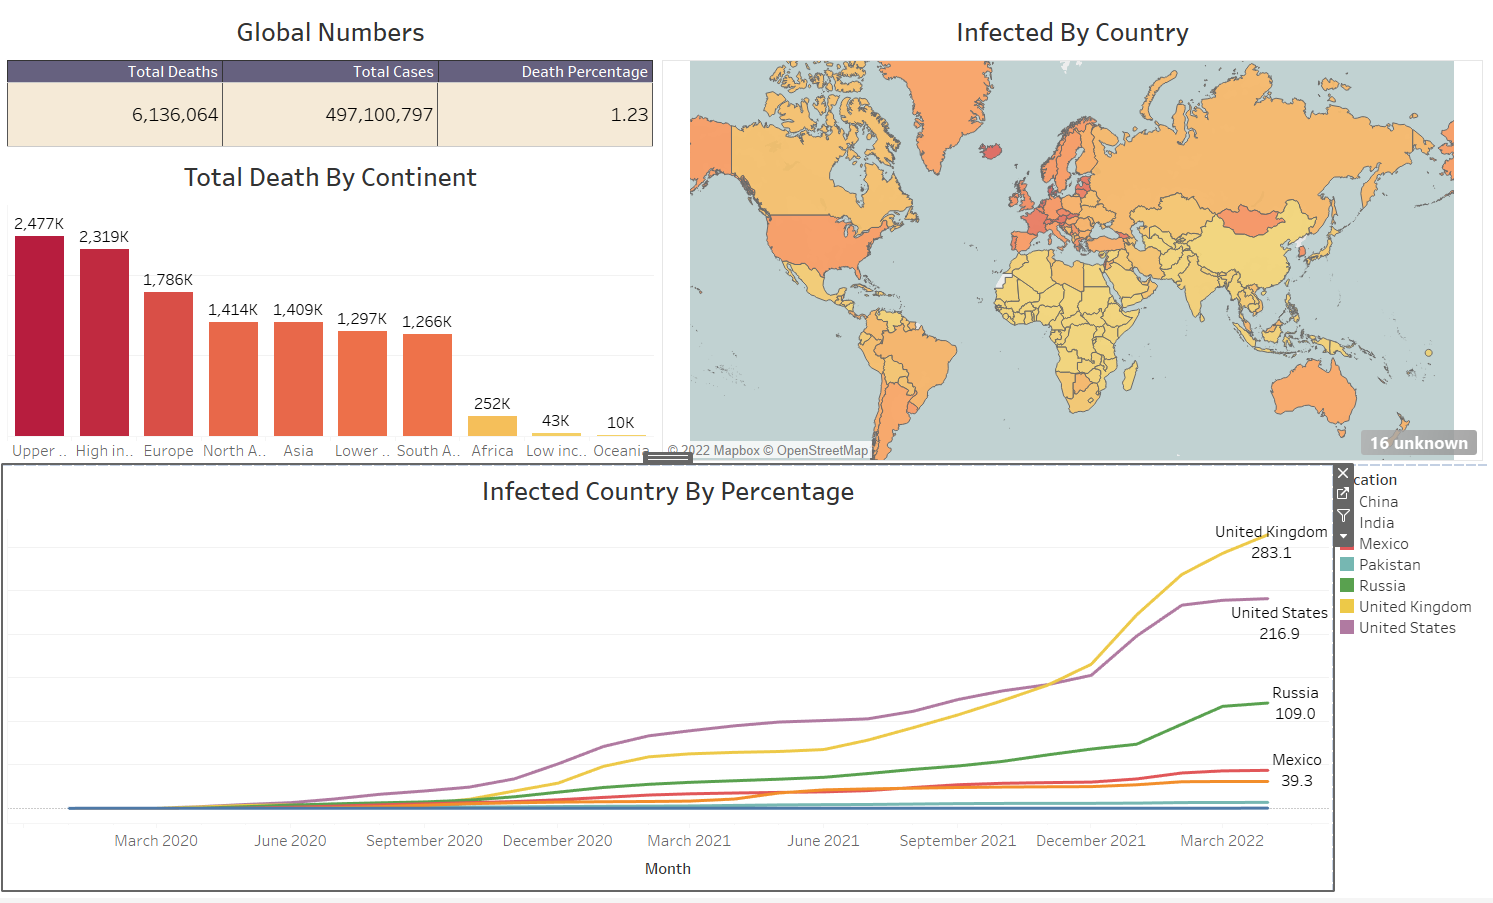

What the dashboard file says about the page in this screenshot:
{"tool":"tableau","page":{"name":"Dashboard 1","canvas":[1500,900],"ordinal":0},"visuals":[{"type":"worksheet","title":"Sheet 1","mark":"Automatic","box":[8,8,654.6,145.1]},{"type":"worksheet","title":"Sheet 3","mark":"Automatic","box":[662.6,8,829.4,458.9]},{"type":"worksheet","title":"Sheet 2","mark":"Automatic","rows":["TotalDeathCount"],"cols":["location"],"box":[8,153.1,654.6,313.8]},{"type":"worksheet","title":"Sheet 4","mark":"Automatic","rows":["PercentPopulationInfected"],"cols":["date"],"box":[8,466.9,1330,425.1]},{"type":"legend","title":"Sheet 4","param":"[federated.0ta8u5v0hvkwng1890qg70r7ax63].[none:Location:nk]","box":[1338,466.9,154,425.1]}]}

Visuals, with their boxes in screenshot pixels (x1, y1, x2, y2), scaled from the page's 1500x900 canvas onto the 1493x903 screenshot:
"Sheet 1" worksheet: {"left": 8, "top": 8, "right": 660, "bottom": 154}
"Sheet 3" worksheet: {"left": 660, "top": 8, "right": 1485, "bottom": 468}
"Sheet 2" worksheet: {"left": 8, "top": 154, "right": 660, "bottom": 468}
"Sheet 4" worksheet: {"left": 8, "top": 468, "right": 1332, "bottom": 895}
"Sheet 4" legend: {"left": 1332, "top": 468, "right": 1485, "bottom": 895}
